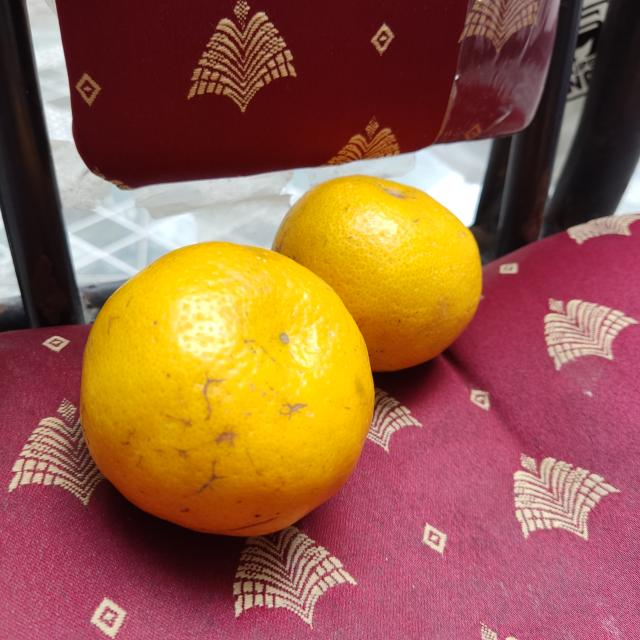orange: (77, 240, 377, 537), (275, 174, 481, 374)
